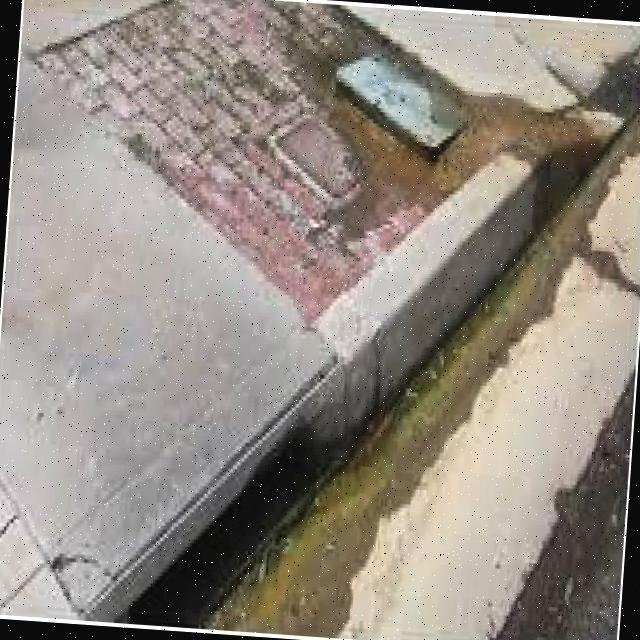curb: (284, 173, 498, 497), (51, 346, 286, 638), (464, 52, 640, 294)
